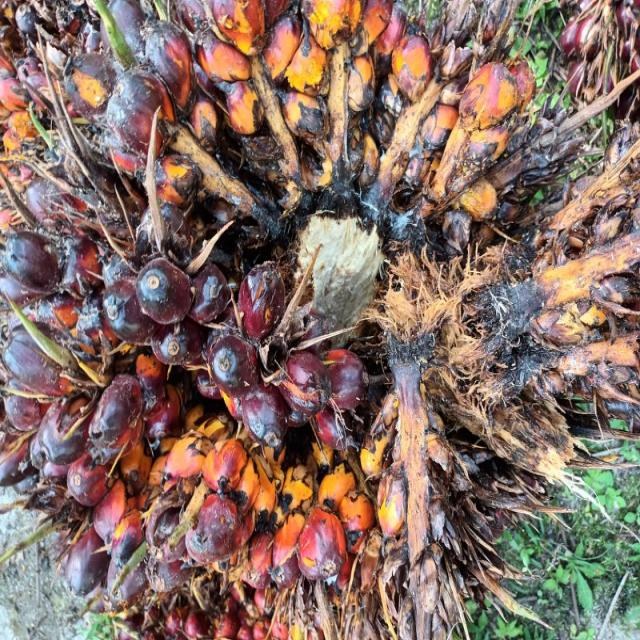fraksi 1: (0, 8, 638, 640)
